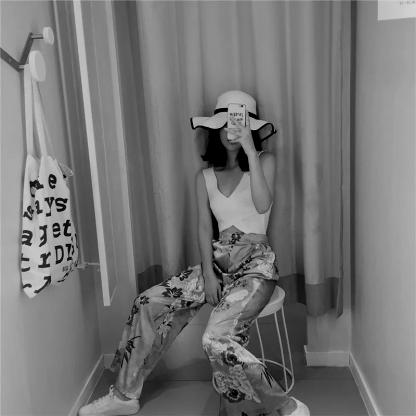dress: (110, 229, 293, 416)
jacket: (201, 152, 277, 236)
